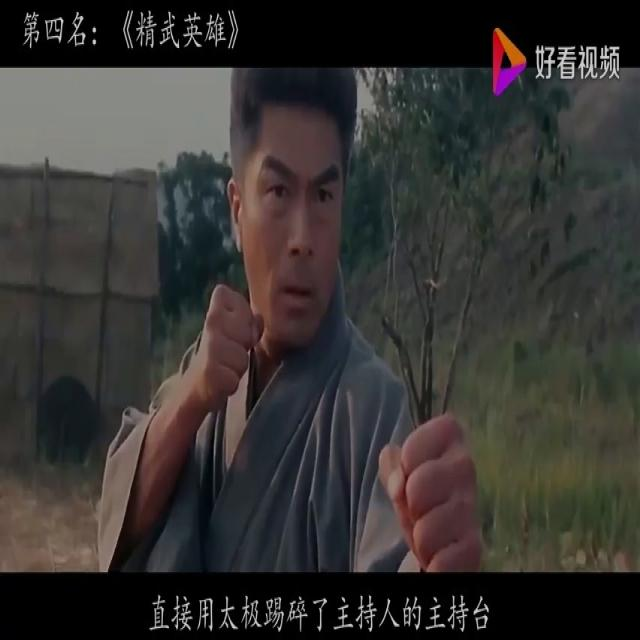fight: (86, 66, 540, 574)
